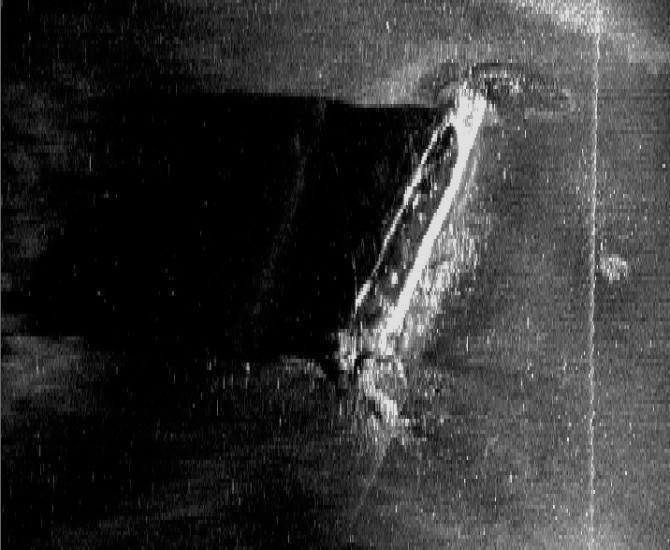ship: (348, 87, 482, 361)
